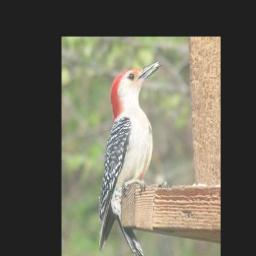Woodpecker: (99, 59, 164, 256)
